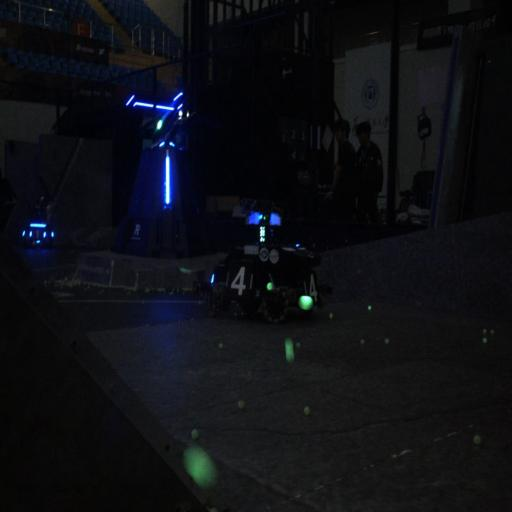target: (224, 262, 256, 308), (299, 264, 321, 312), (29, 227, 46, 246)
